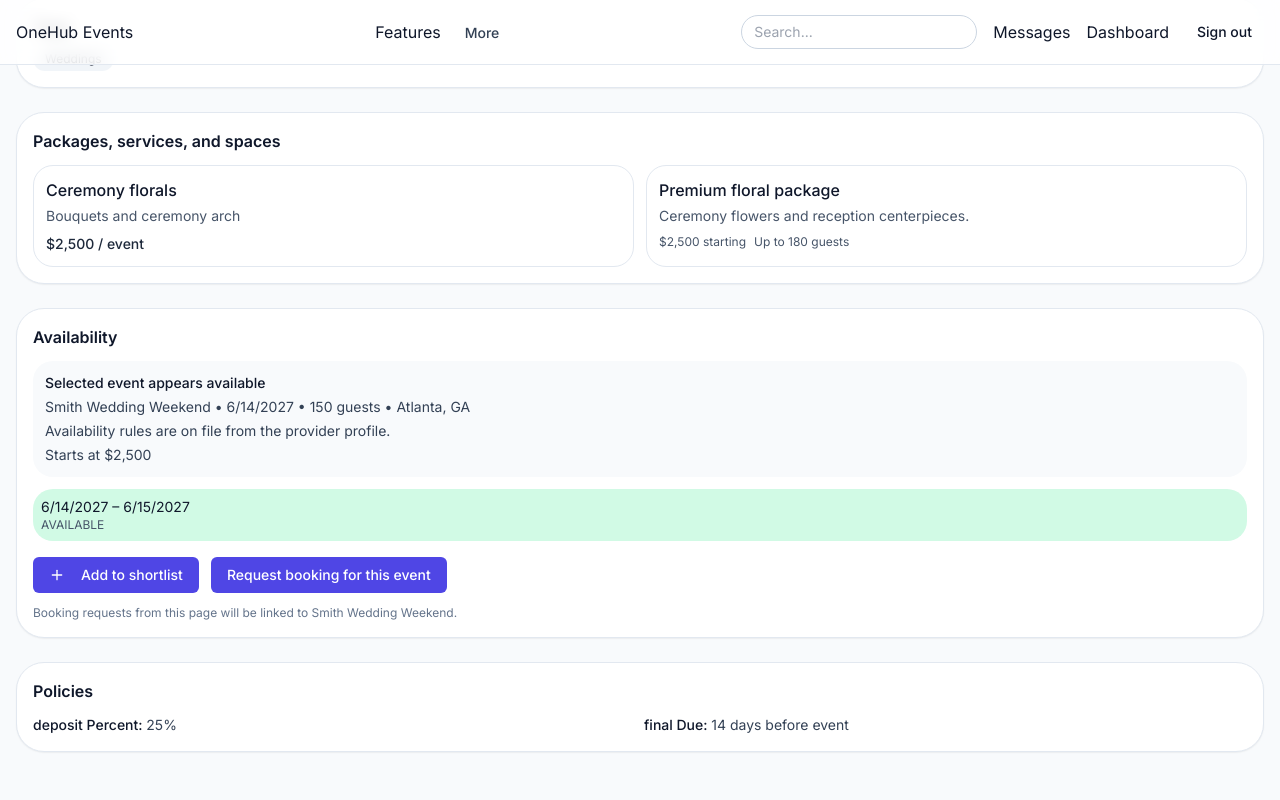
Test: provider profile publish, marketplace discovery, and event-smart request flow › renders listing detail profile trust fields, packages, policies, and event-smart request defaults
This screenshot has width=1280, height=800.
(page scrolled)
Expected: the text "Premium floral package" is shown, [659,180,840,200]
Expected: the text "25%" is shown, [146,716,177,733]
Step 1. Click the button "Request booking for this event" → (329, 575), box [211,557,447,593]
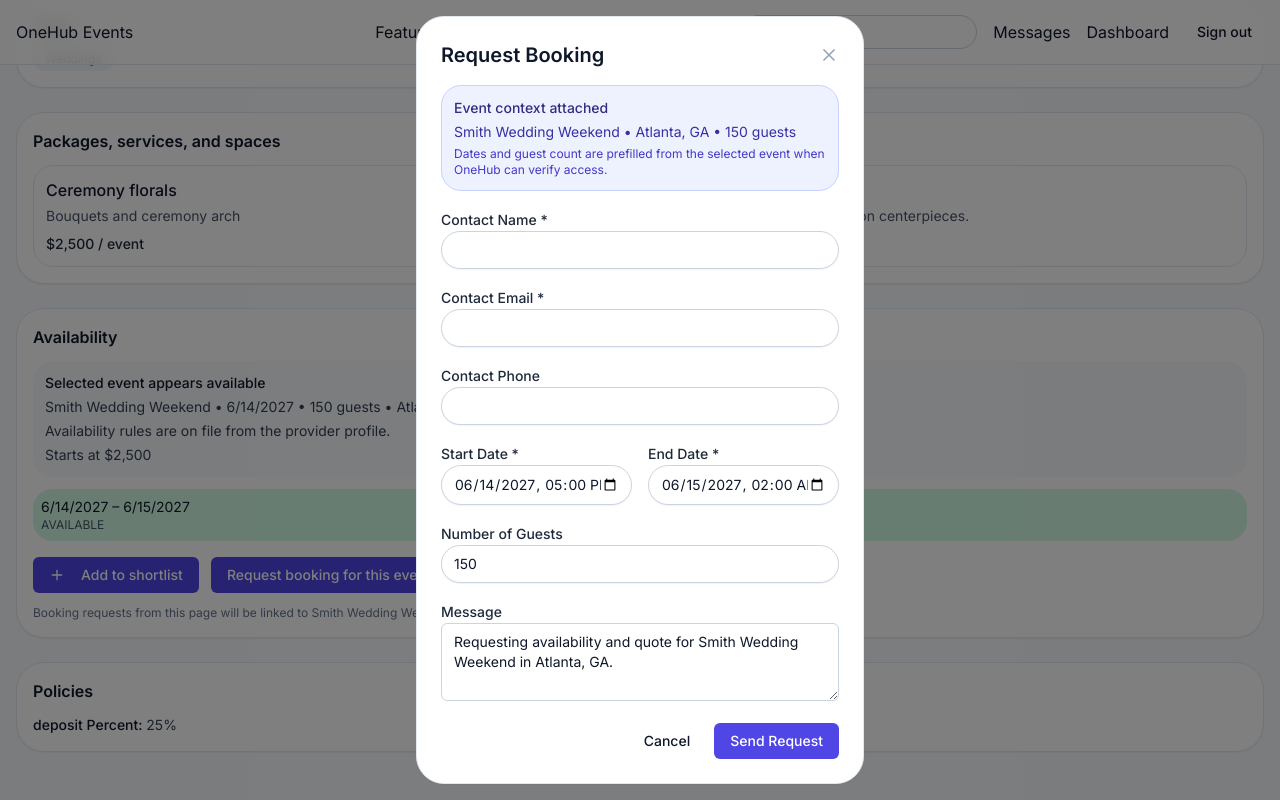
Expected: the text "Event context attached" is shown, [454,99,608,116]
Expected: the number field showing "150" is shown, [441,545,839,583]
Expected: the text box showing "Requesting availability and quote for Smith Wedding Weekend" is shown, [441,623,839,701]
